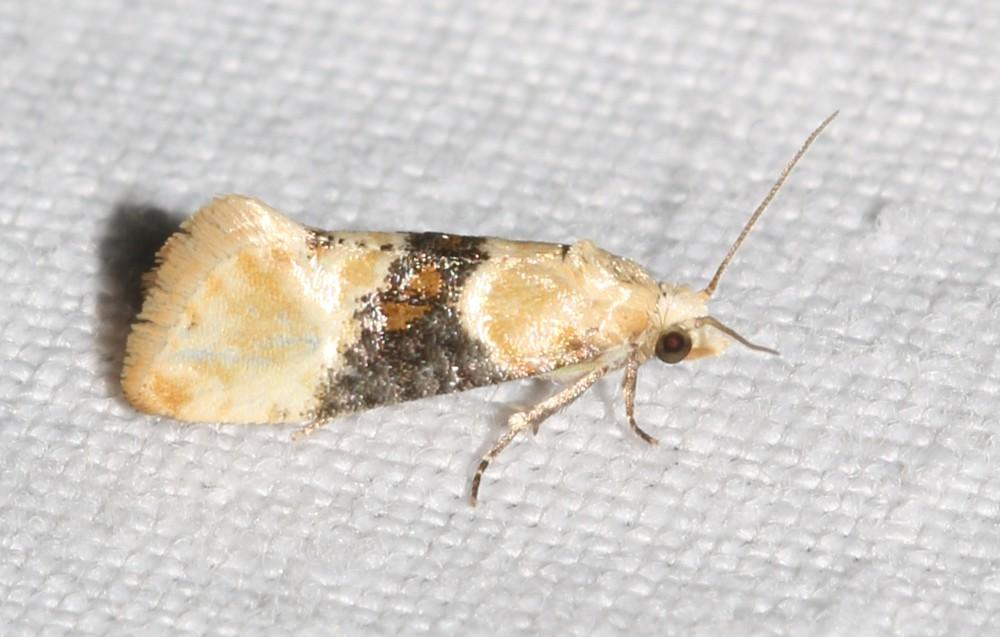Eupoecilia Ambiguella: (117, 106, 842, 510)
